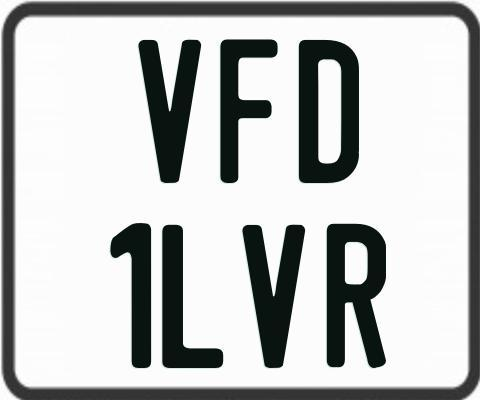1: (107, 223, 152, 370)
D: (299, 38, 361, 185)
F: (217, 40, 280, 185)
L: (162, 222, 226, 366)
R: (324, 221, 386, 366)
V: (138, 38, 206, 185), (241, 224, 308, 369)
